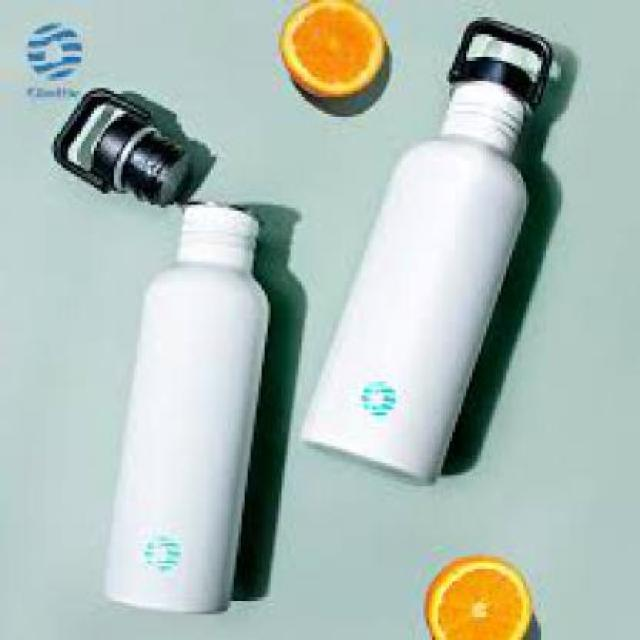Drinking: (325, 37, 563, 503), (111, 171, 274, 623)
